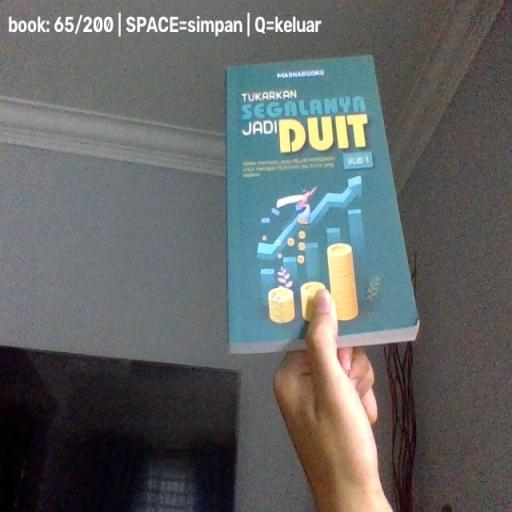Book: (225, 54, 420, 356)
